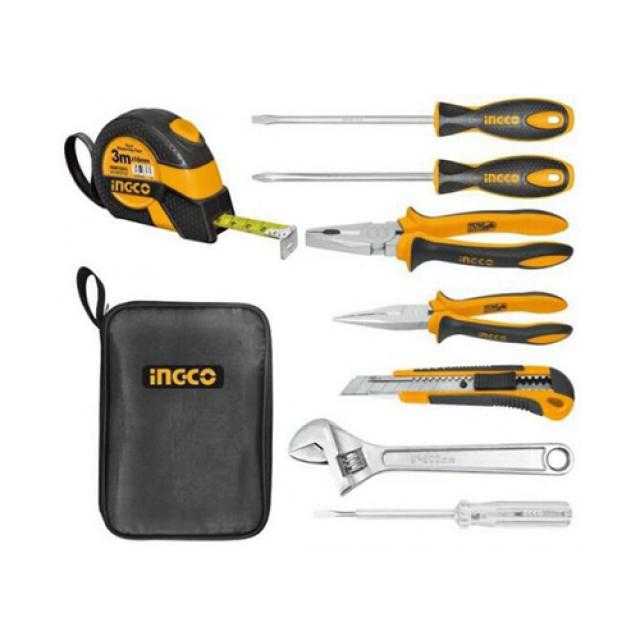Screwdriver: (252, 155, 572, 198), (252, 99, 574, 141), (314, 501, 572, 527)
